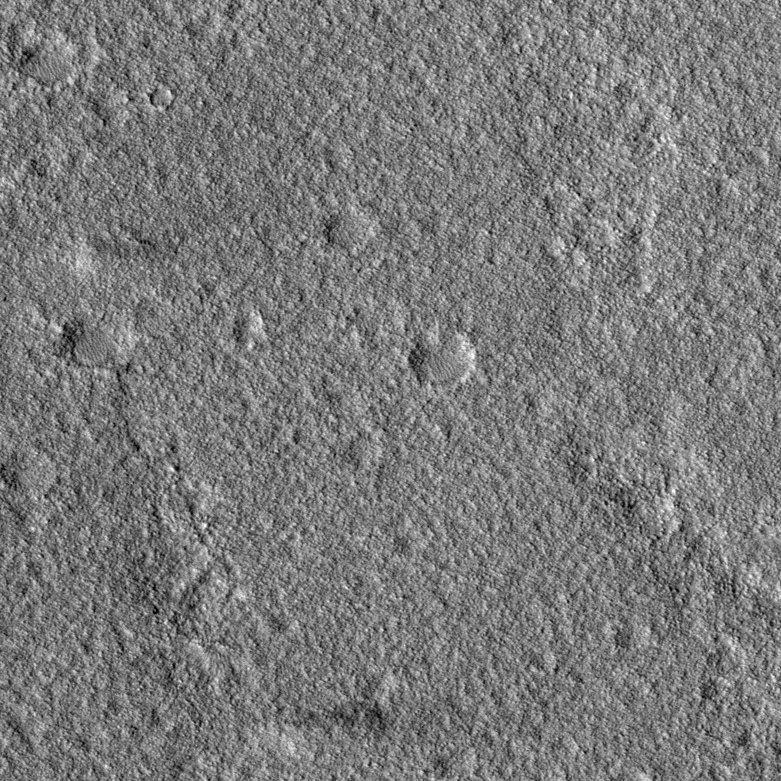dust_devil: (260, 695, 393, 762), (71, 232, 180, 276)
